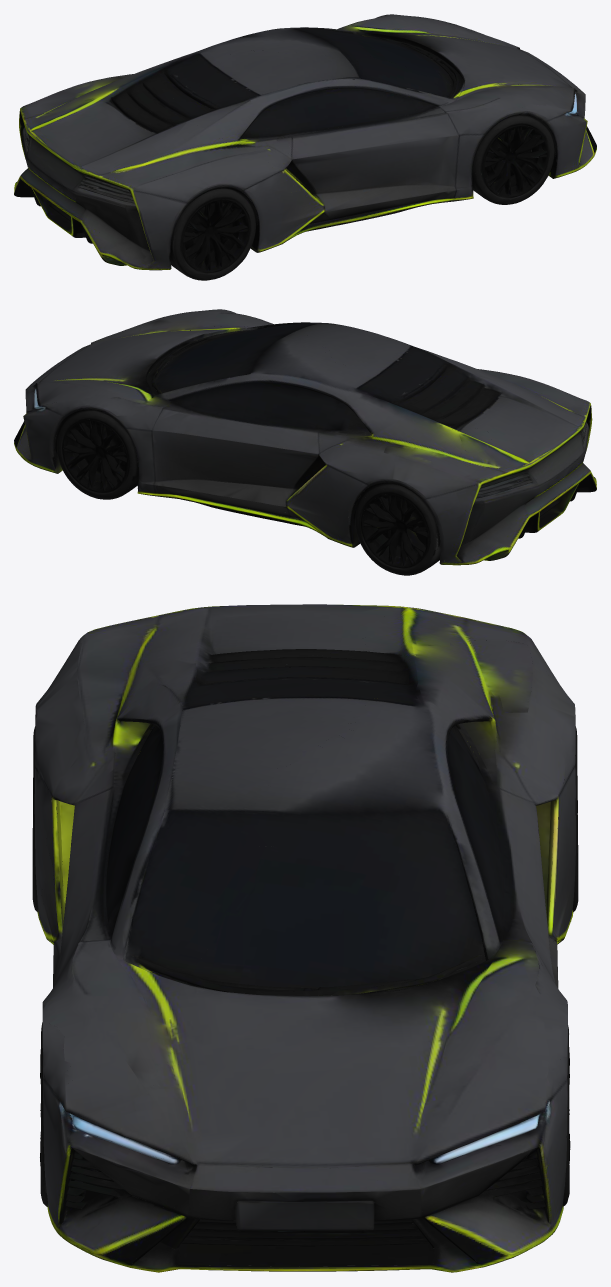
Rendered from koncept.glb.
3 views of the same model, one above another, from view 1: azimuth 30°, elevation 25°; view 2: azimuth 150°, elevation 25°; view 3: azimuth 270°, elevation 25° (orthographic). The views are drawn at different scales.
Visible parts, largest first — view 1: Body, Wheel_RR, Wheel_FR; view 2: Body, Wheel_RL, Wheel_FL; view 3: Body.
Part boxes in pixels (x1,y1,x2,y2): Body: (14,14,596,270); Wheel_RR: (166,183,262,280); Wheel_FR: (472,112,561,204); Body: (14,309,596,565); Wheel_RL: (348,476,443,575); Wheel_FL: (50,406,139,499); Body: (35,604,575,1272).
Size of the model in its own units: 1 by 0.2709 by 0.4617.
1 material, 1 textured.
